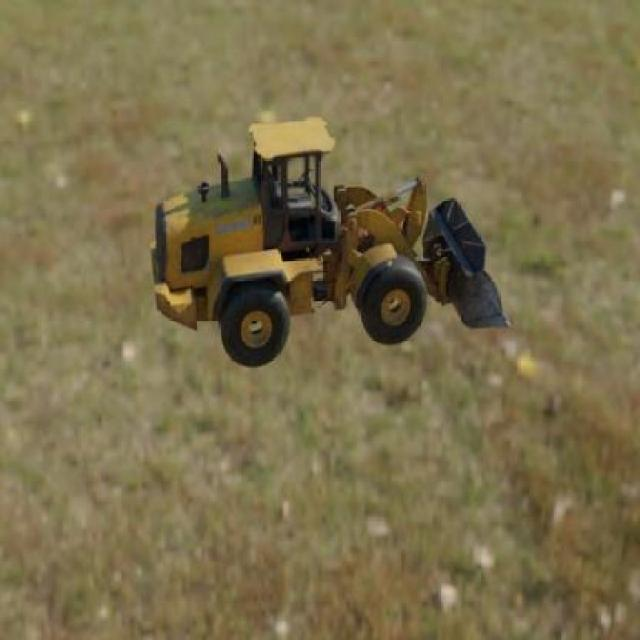buldozerpayloadergrader: (150, 111, 512, 372)
